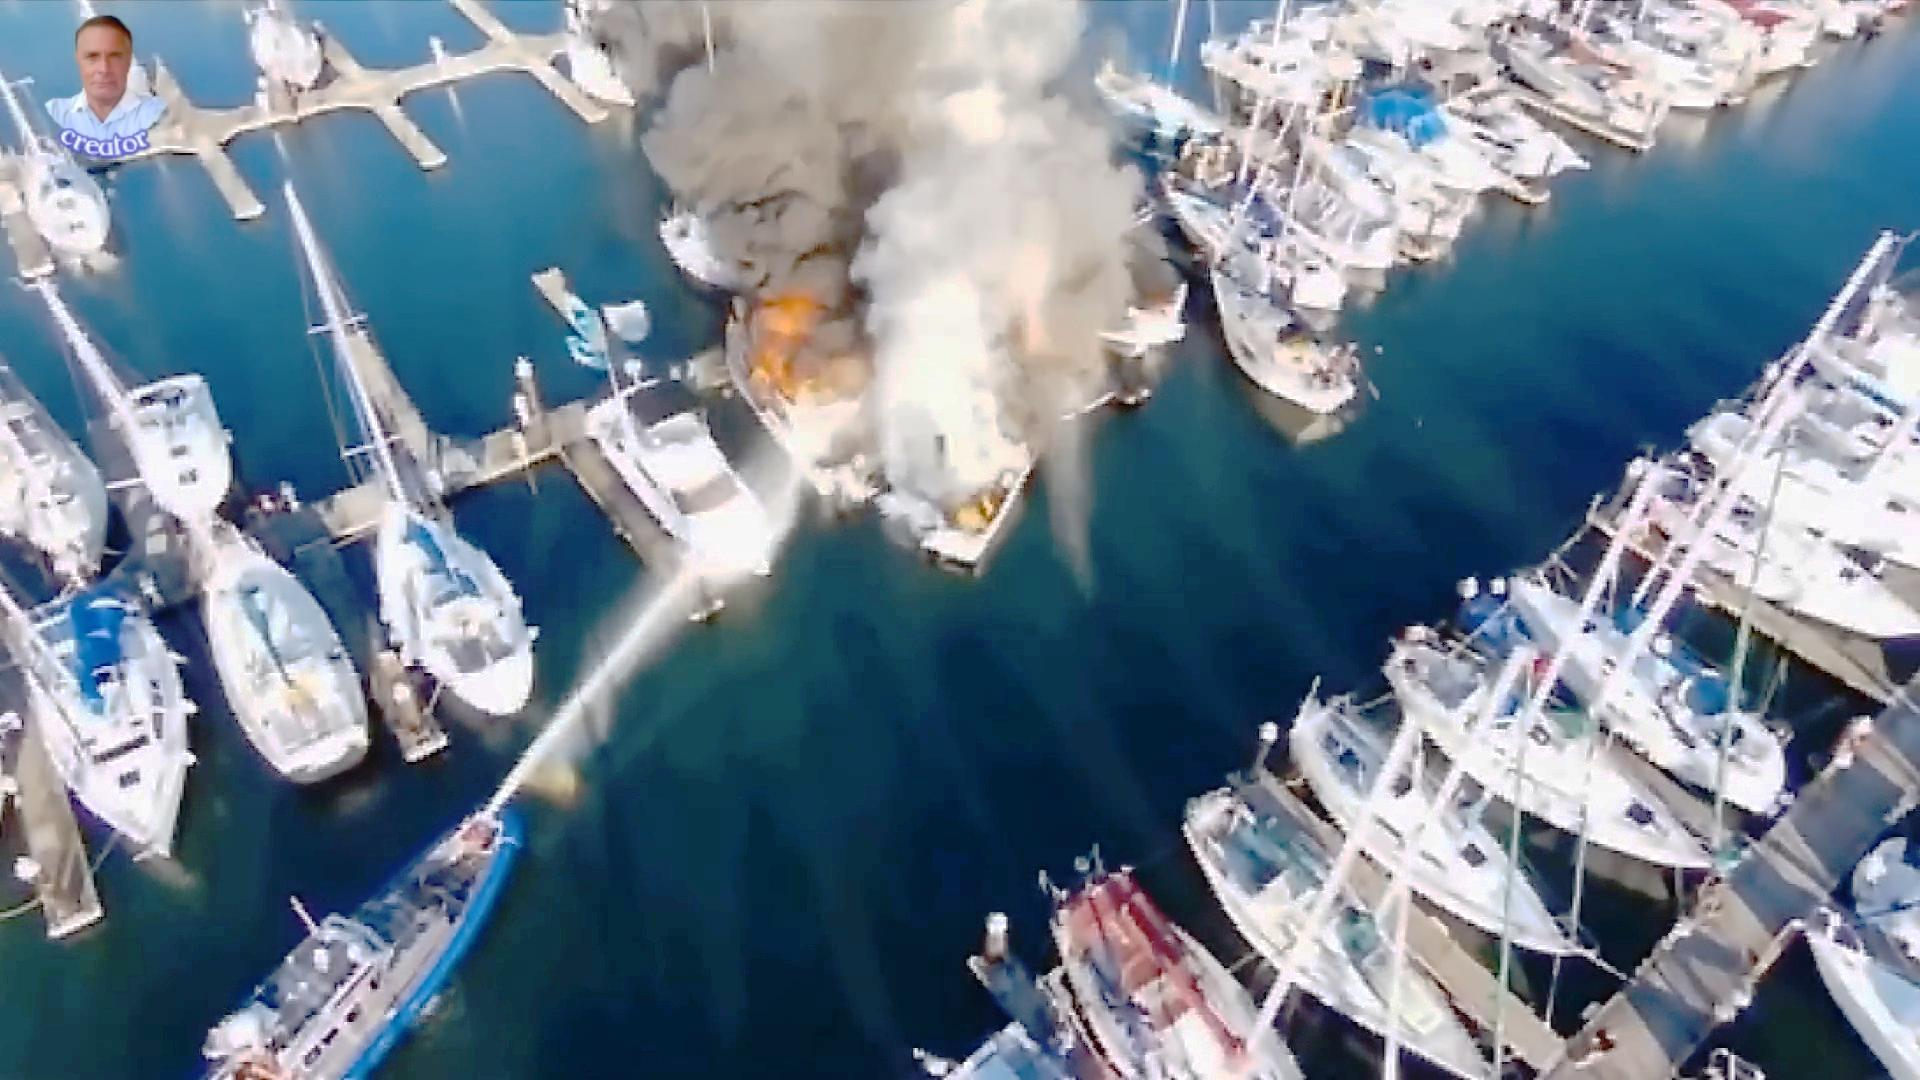fire: (647, 0, 1035, 268), (745, 295, 829, 402)
